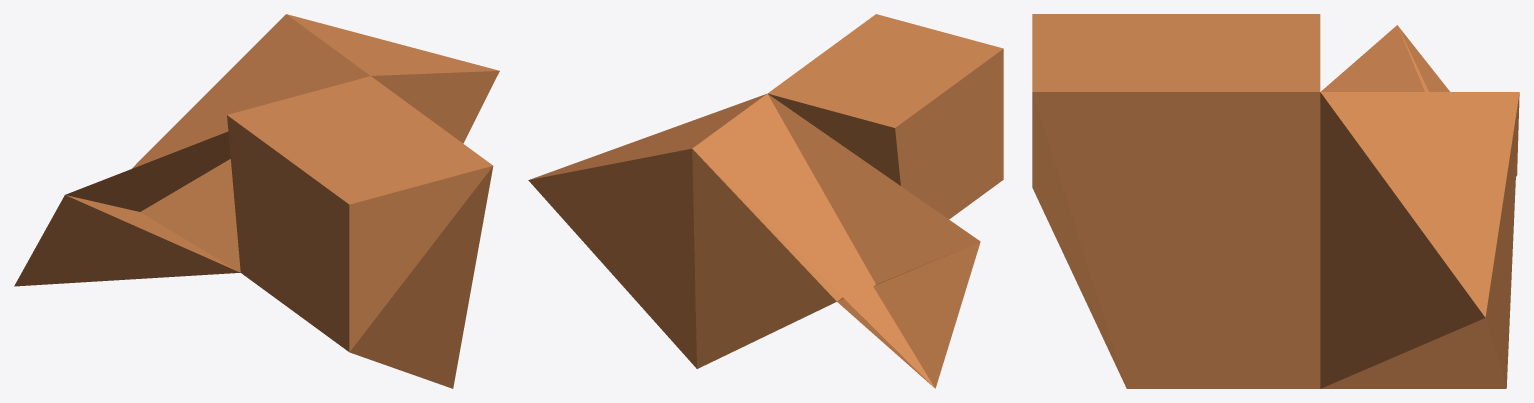
3 views of the same model, side by side, from view 1: azimuth 30°, elevation 25°; view 2: azimuth 150°, elevation 25°; view 3: azimuth 270°, elevation 25° (orthographic). The views are drawn at different scales.
Visible parts, largest first — view 1: bnc; view 2: bnc; view 3: bnc.
Boxes of the visible parts, box(x1,y1,x2,y2) form: bnc: box(14, 14, 499, 388); bnc: box(528, 14, 1003, 388); bnc: box(1032, 14, 1519, 388).
Size of the model in its own units: 1.17 by 0.6 by 0.8923.
